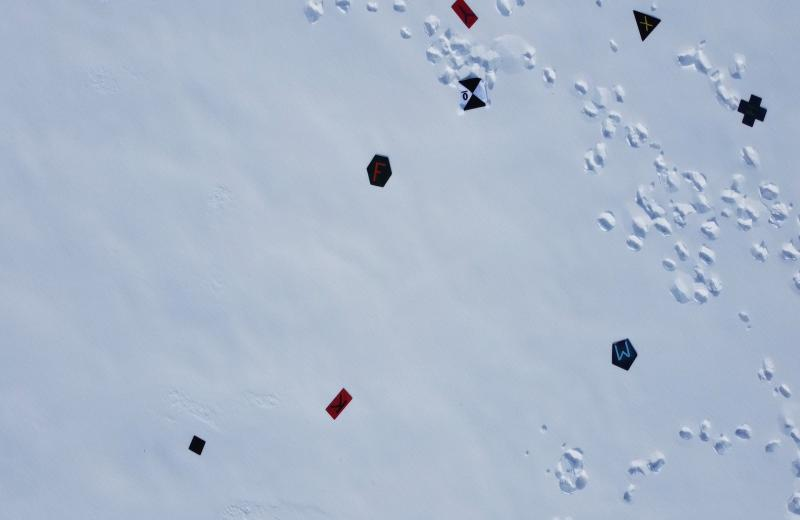Cross: (736, 95, 769, 129)
Hexagon: (364, 152, 394, 191)
Pentagon: (609, 336, 639, 376)
Rectangle: (322, 384, 355, 424), (449, 0, 483, 32)
Square: (184, 431, 209, 459)
Triangle: (630, 5, 663, 44)
